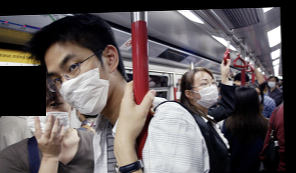with_mask: (47, 50, 110, 115), (23, 91, 70, 140), (193, 75, 220, 108), (268, 76, 277, 87)
